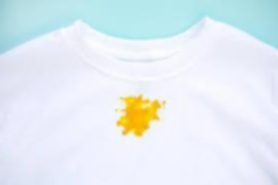mustard: (115, 96, 168, 136)
